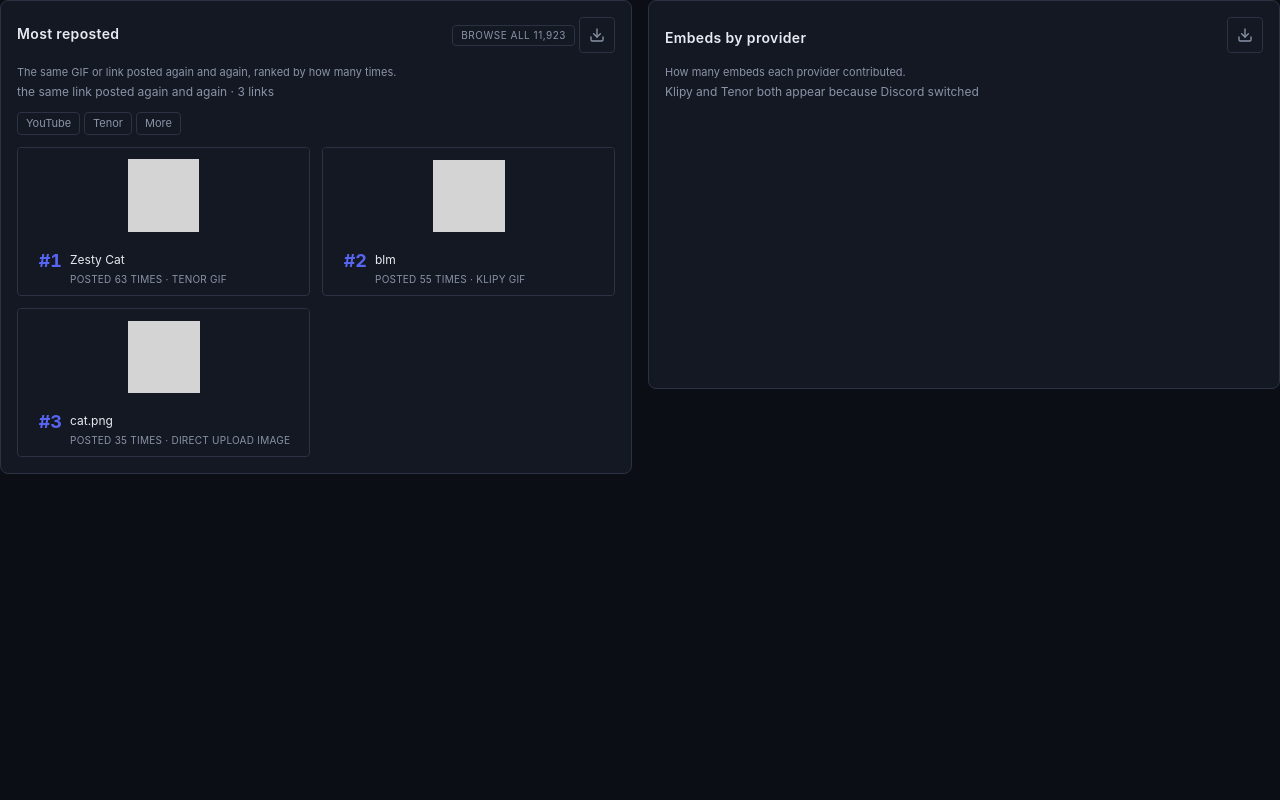
<RichMedia> › filters by provider through the api when a chip is chosen
The image size is (1280, 800).
Click the button "Browse all 11,923": (514, 35) [452,24,575,46]
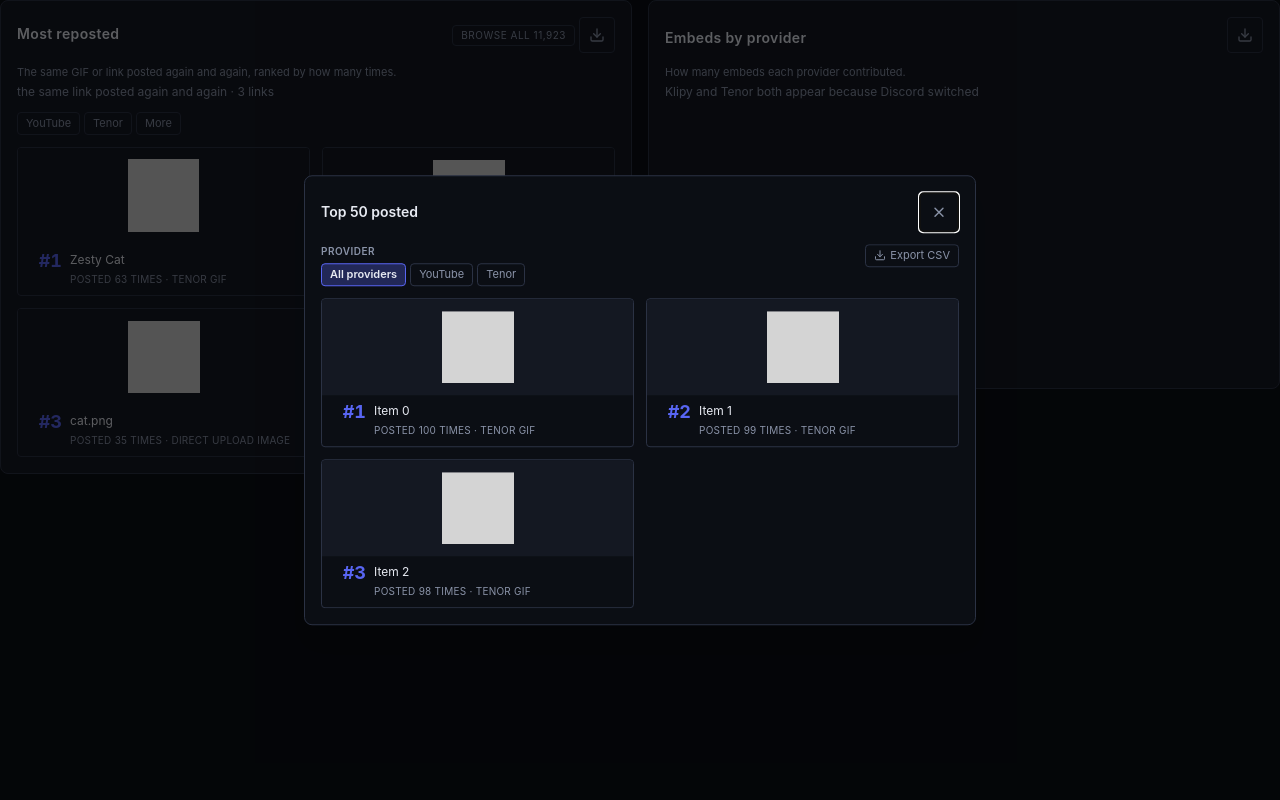
Expected: the dialog "Top 50" is shown, [304,175,976,625]
Click the button "Tenor": (501, 275) [477,263,525,286]
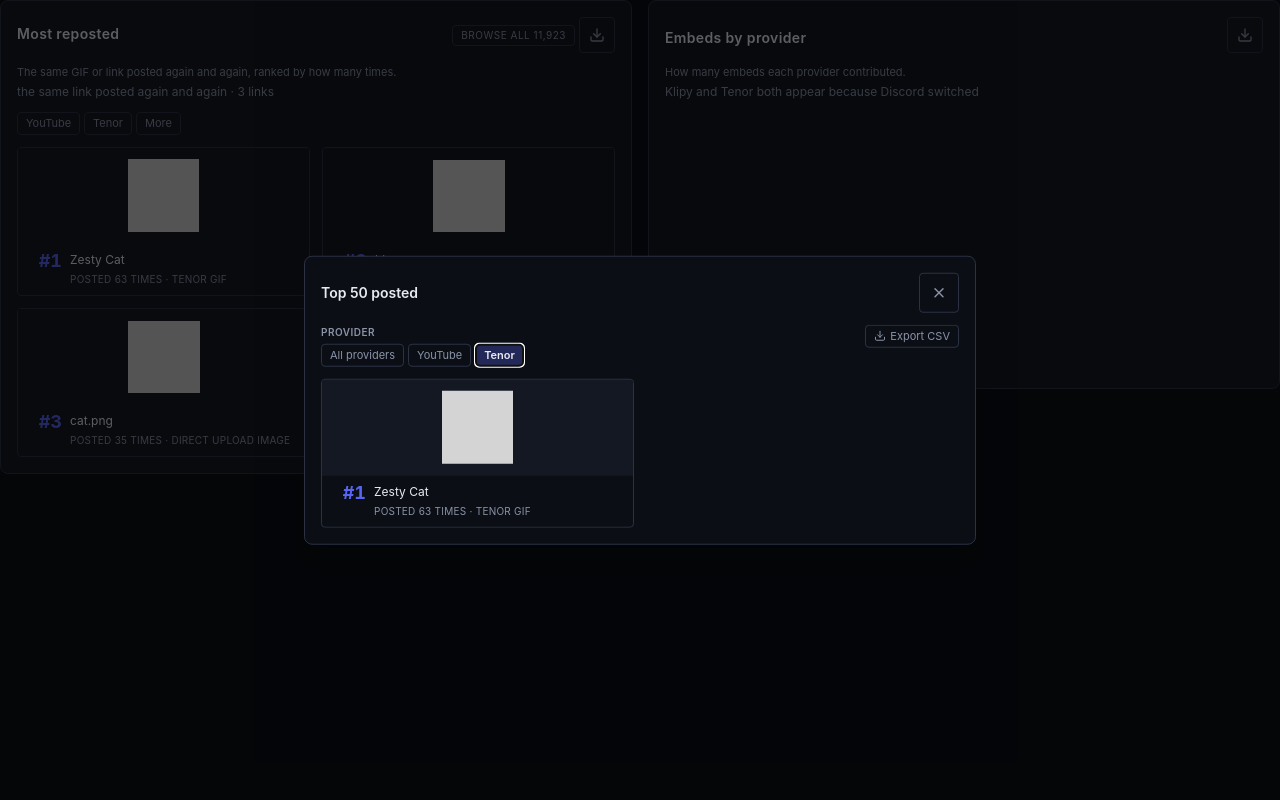
Expected: the text "posted 63 times · Tenor GIF" is shown, [374,504,531,516]
